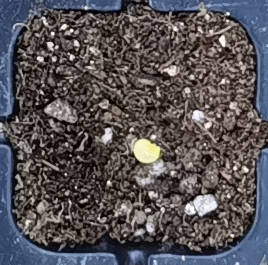chilli seed: (132, 138, 160, 163)
